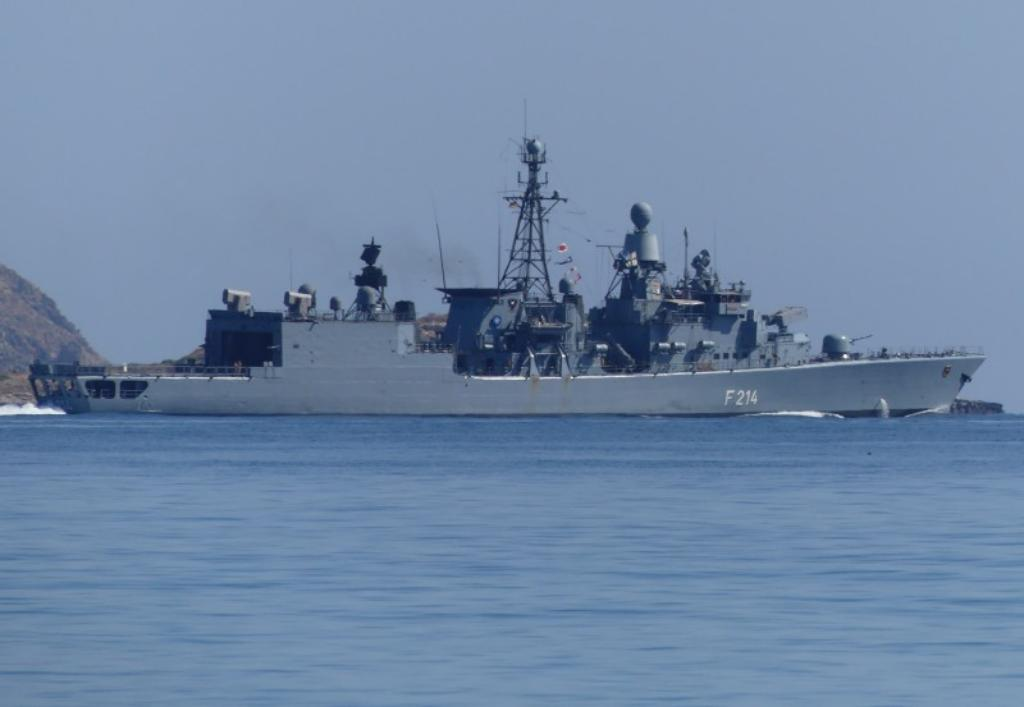Warship: (28, 128, 992, 422)
